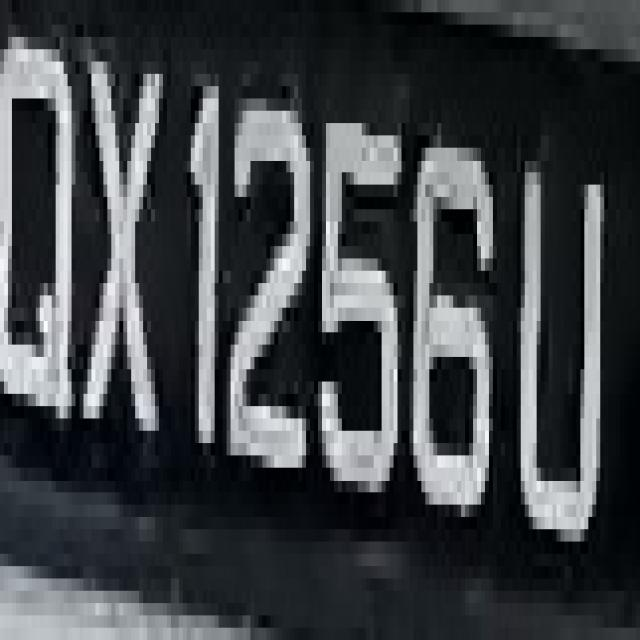1: (194, 37, 230, 492)
2: (227, 61, 314, 517)
5: (314, 86, 409, 505)
6: (413, 86, 497, 566)
Q: (0, 24, 87, 480)
U: (517, 148, 616, 542)
X: (83, 25, 167, 443)
